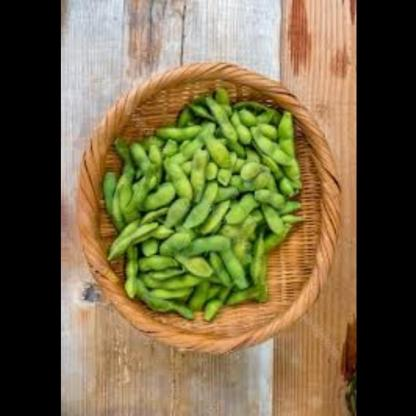beans: (118, 108, 309, 320)
